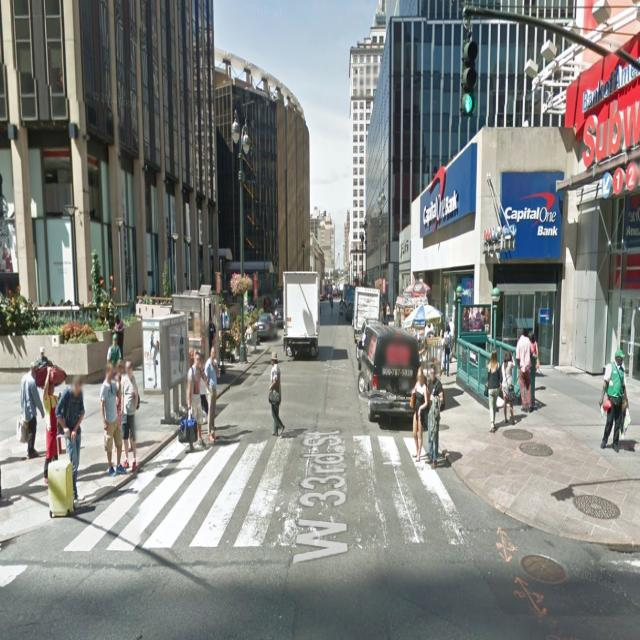body: (0, 420, 250, 506), (417, 357, 463, 470), (54, 373, 86, 506), (598, 348, 630, 454), (177, 349, 208, 454), (99, 362, 127, 478), (40, 364, 66, 485), (14, 360, 45, 461), (491, 369, 555, 416), (424, 362, 445, 471), (120, 360, 140, 471), (408, 363, 429, 463), (482, 346, 503, 434), (515, 328, 535, 413), (267, 350, 285, 438), (204, 344, 220, 442), (500, 349, 518, 426), (604, 428, 640, 459), (528, 329, 540, 413), (194, 353, 208, 424), (113, 357, 126, 427), (244, 295, 282, 314), (111, 312, 125, 361), (231, 320, 253, 350), (443, 322, 453, 378), (106, 332, 122, 367), (150, 335, 160, 389), (436, 327, 445, 378), (177, 324, 185, 378), (34, 346, 48, 370), (208, 315, 216, 357), (320, 285, 344, 299), (448, 316, 456, 350), (424, 317, 436, 339), (411, 342, 427, 358), (221, 303, 230, 331), (392, 303, 399, 329), (378, 298, 384, 326), (385, 300, 391, 324), (329, 295, 334, 316), (339, 296, 344, 308)
